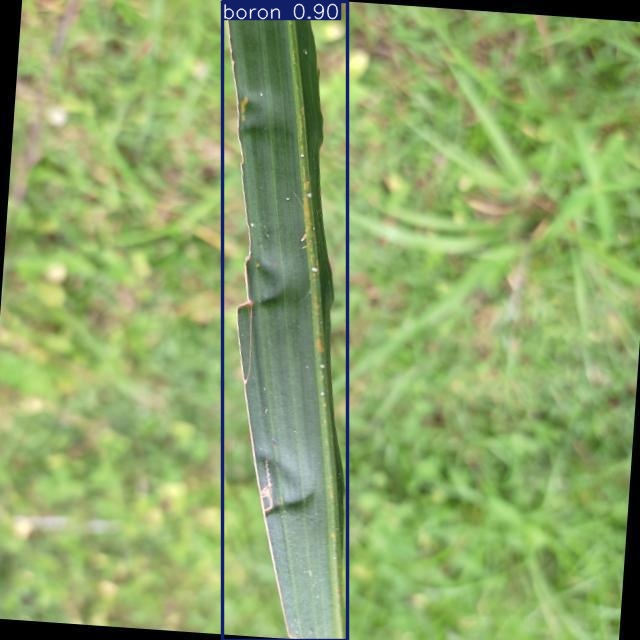nitrogen: (223, 1, 347, 640)
